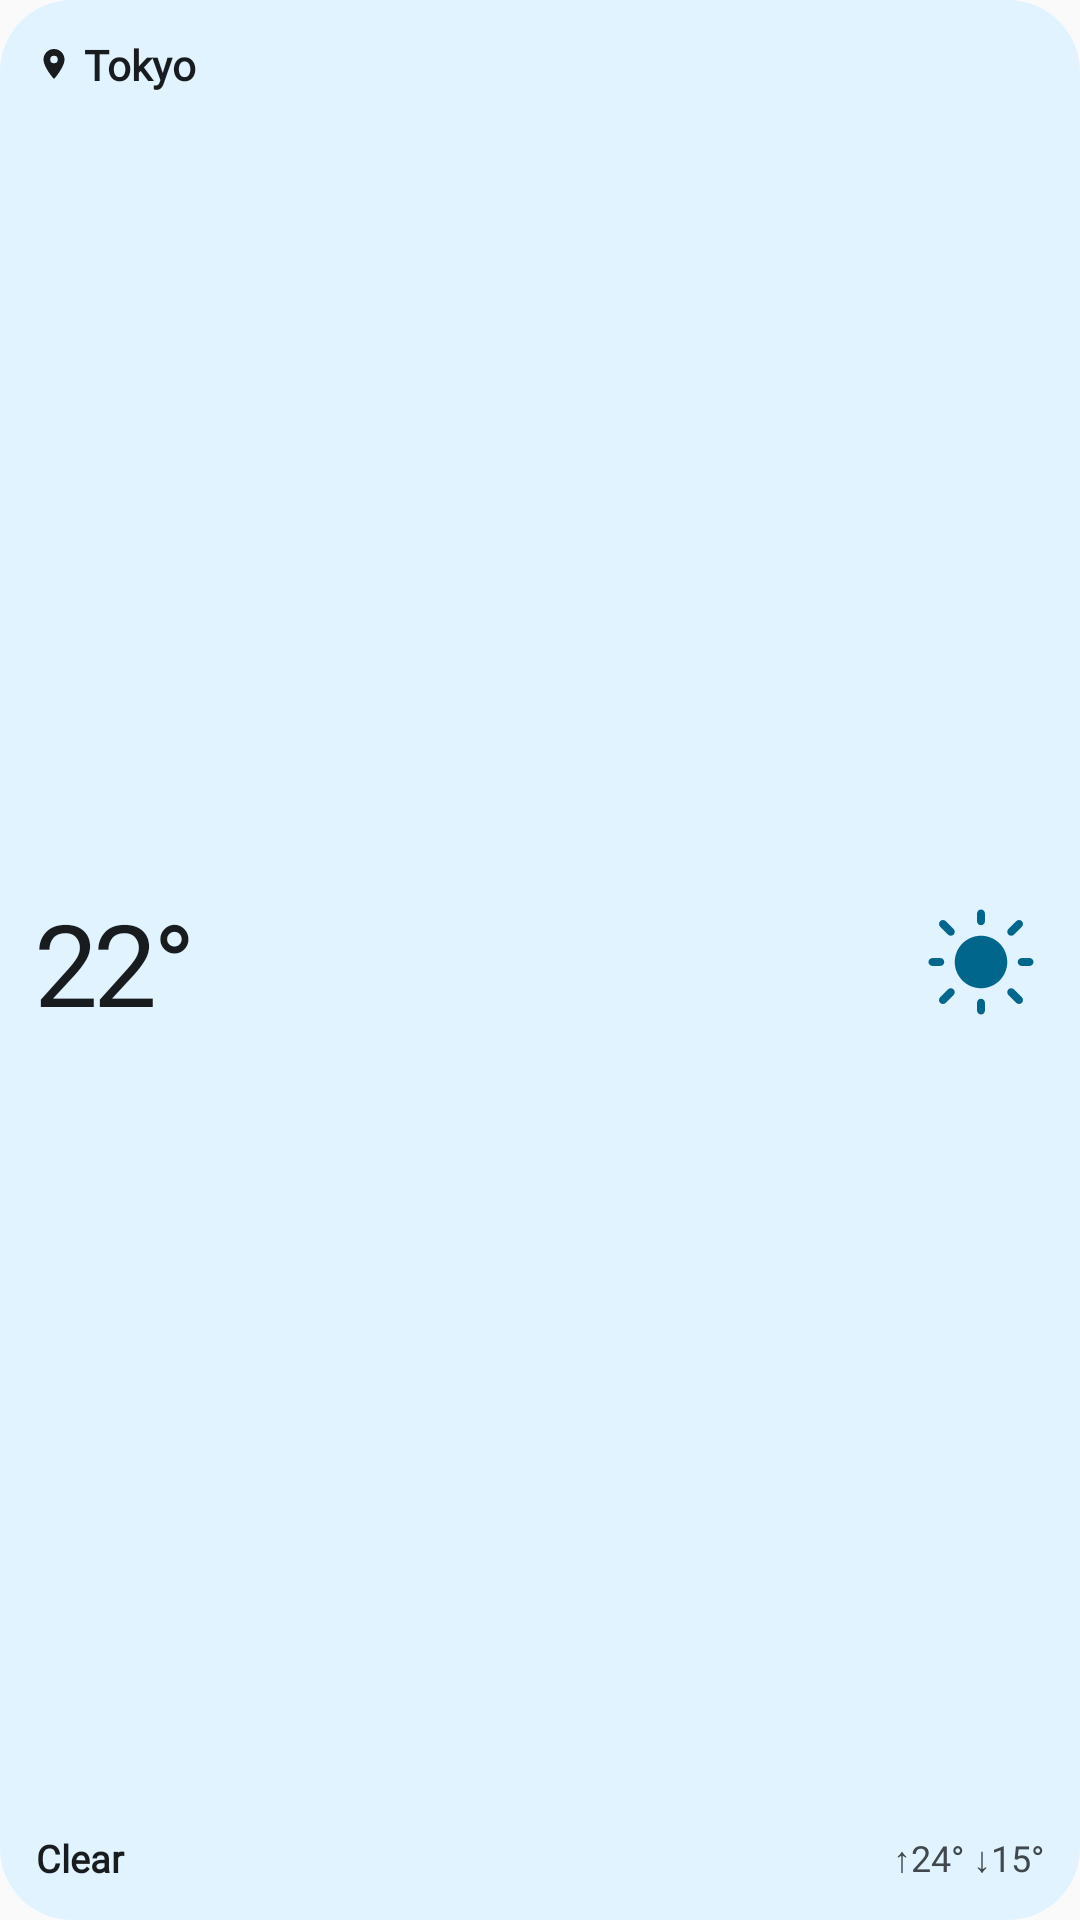

Screen size 1080 × 1920. Icon name, then its center in pixels as point (x, y):
fluent weather sunny: point (981, 962)
widget location: point (54, 64)
